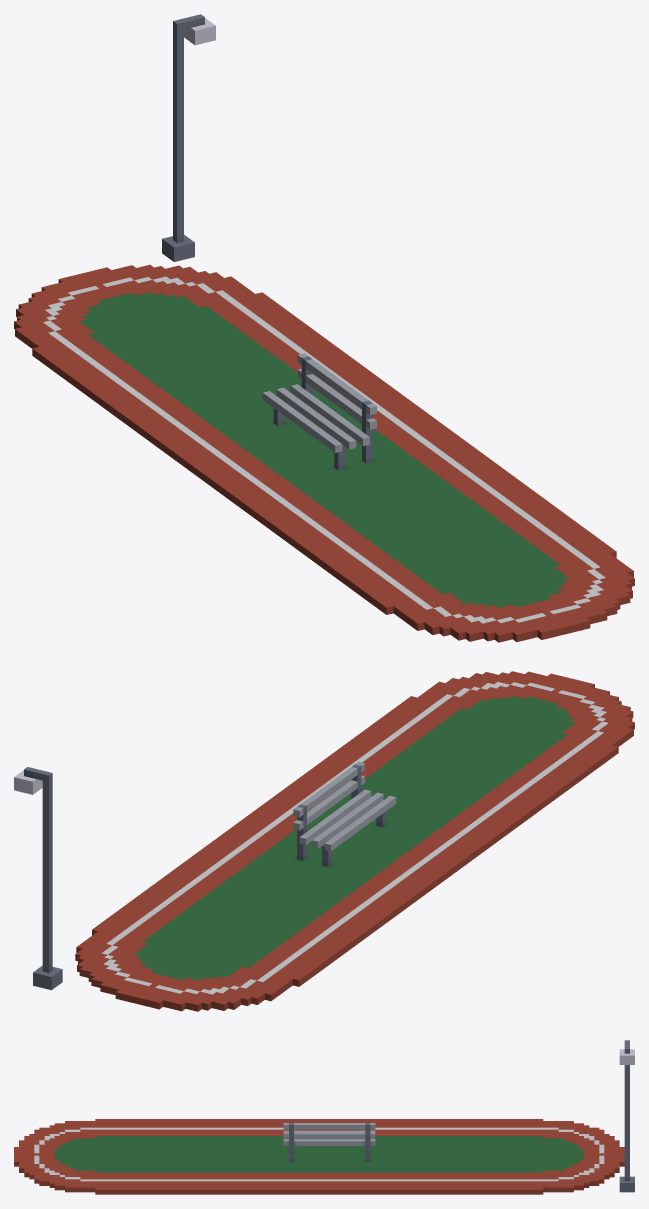
The model's file is training_e5_l2.glb.
3 views of the same model, one above another, from view 1: azimuth 30°, elevation 25°; view 2: azimuth 150°, elevation 25°; view 3: azimuth 270°, elevation 25° (orthographic). The views are drawn at different scales.
Visible parts, largest first — view 1: Base; view 2: Base; view 3: Base.
Boxes of the visible parts, <box> form: Base: <box>14,14,634,642</box>; Base: <box>14,671,634,1011</box>; Base: <box>14,1040,634,1194</box>.
Size of the model in its own units: 3.5 by 3.2 by 12.2.
